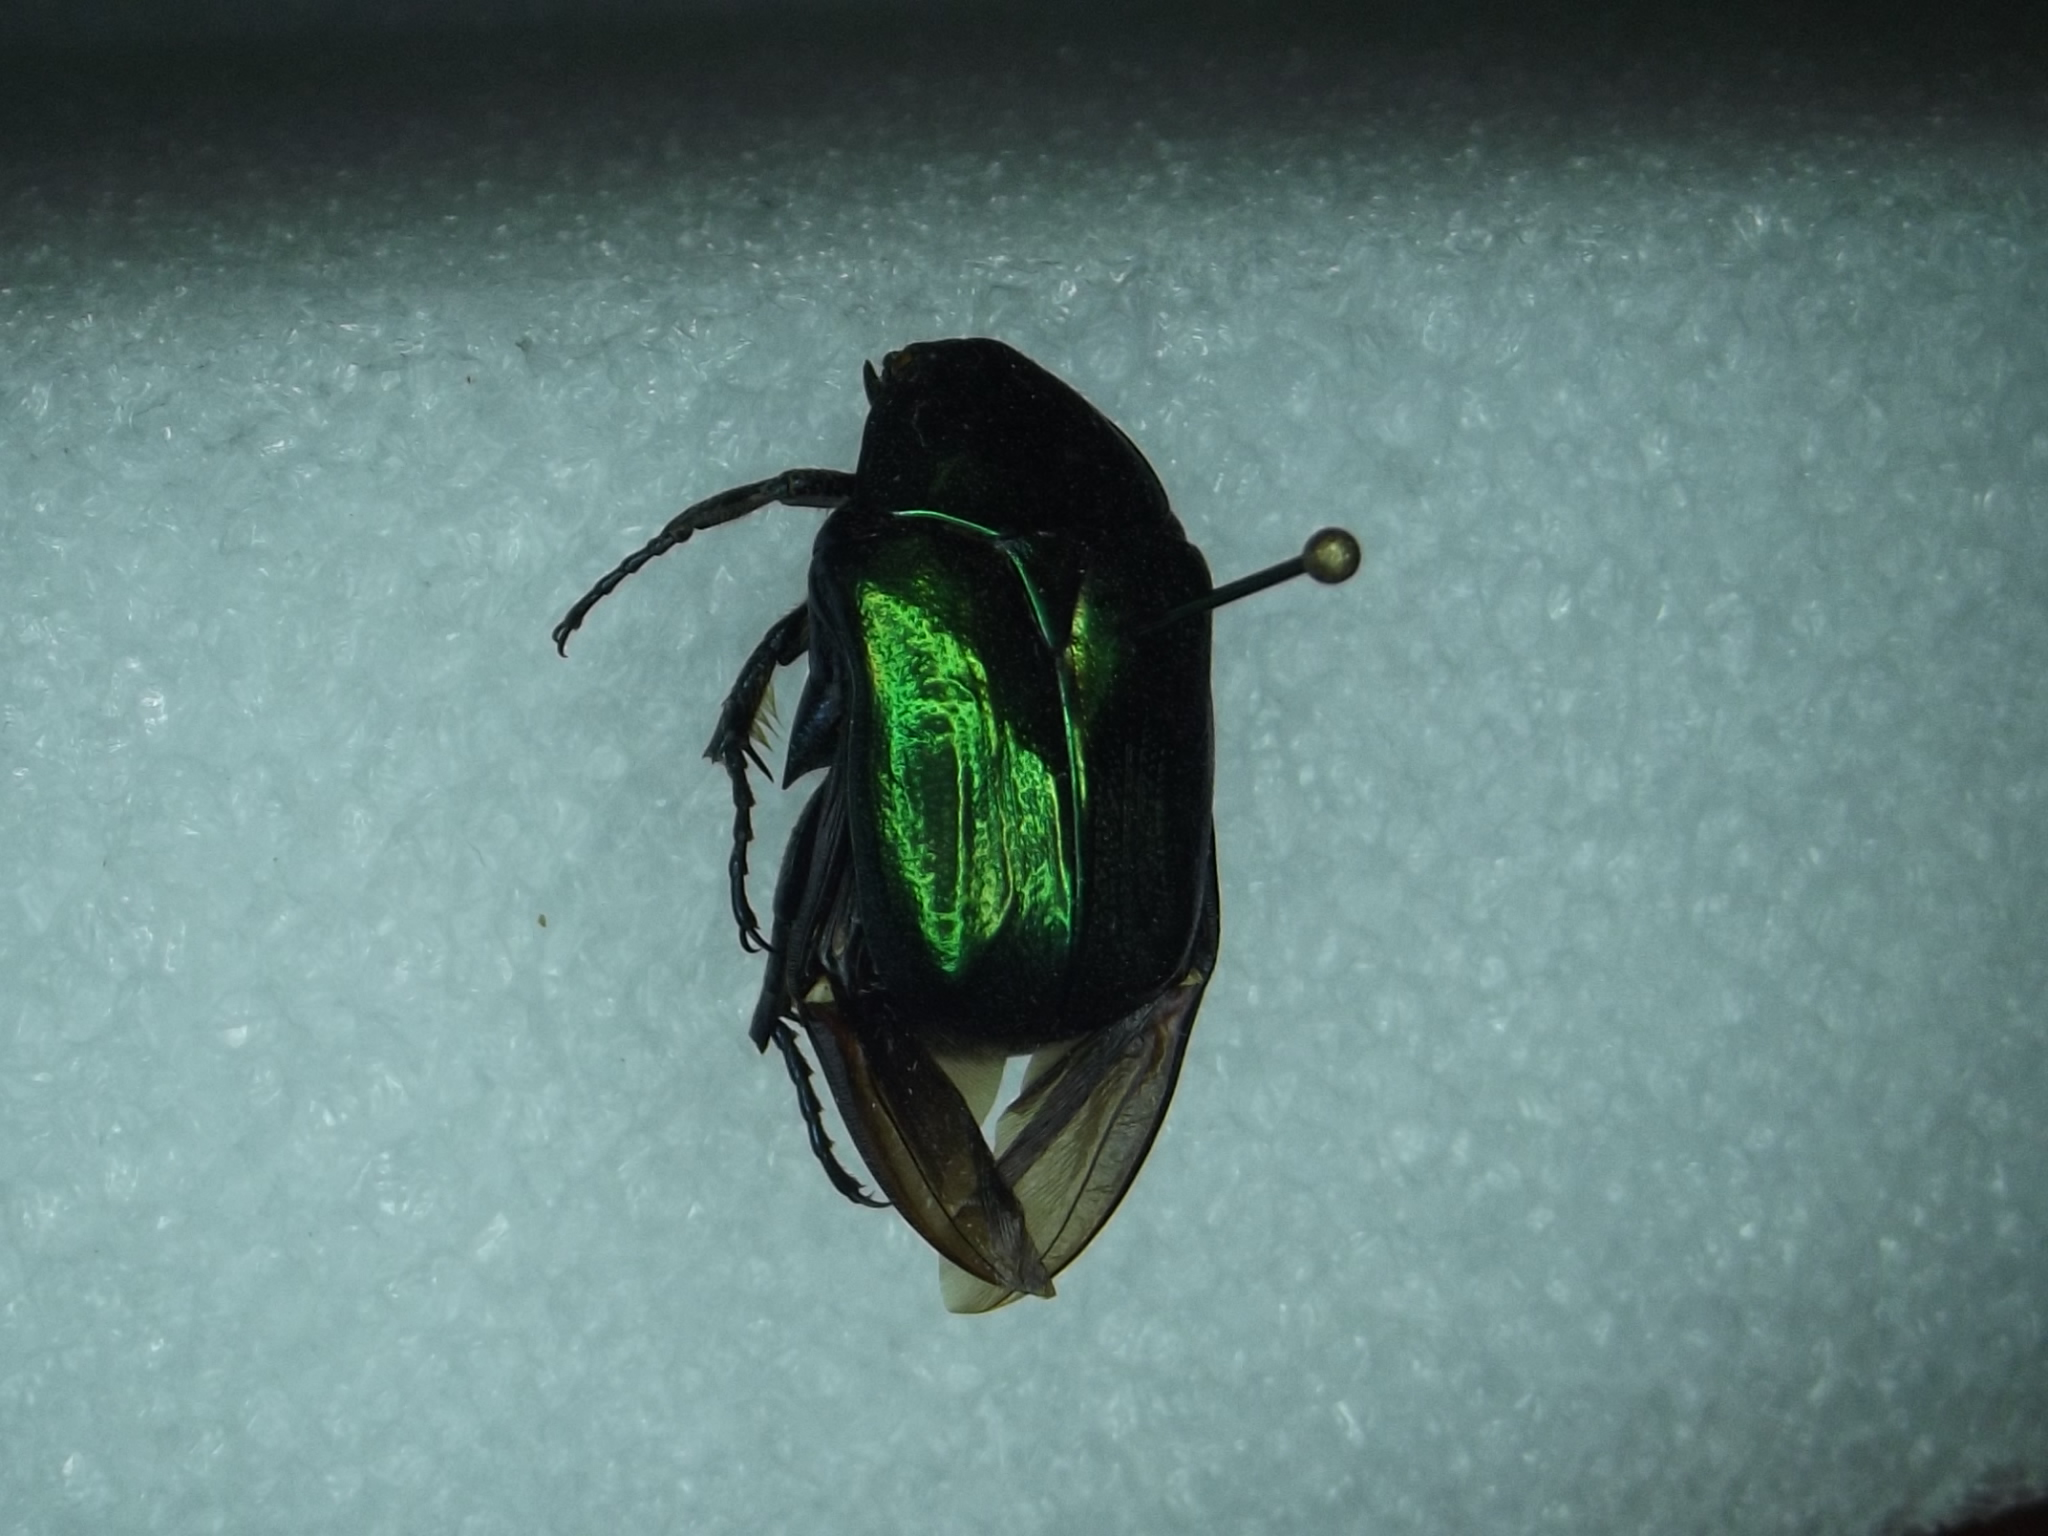Protaetia_angustata_angustata: (521, 324, 1230, 1207)
